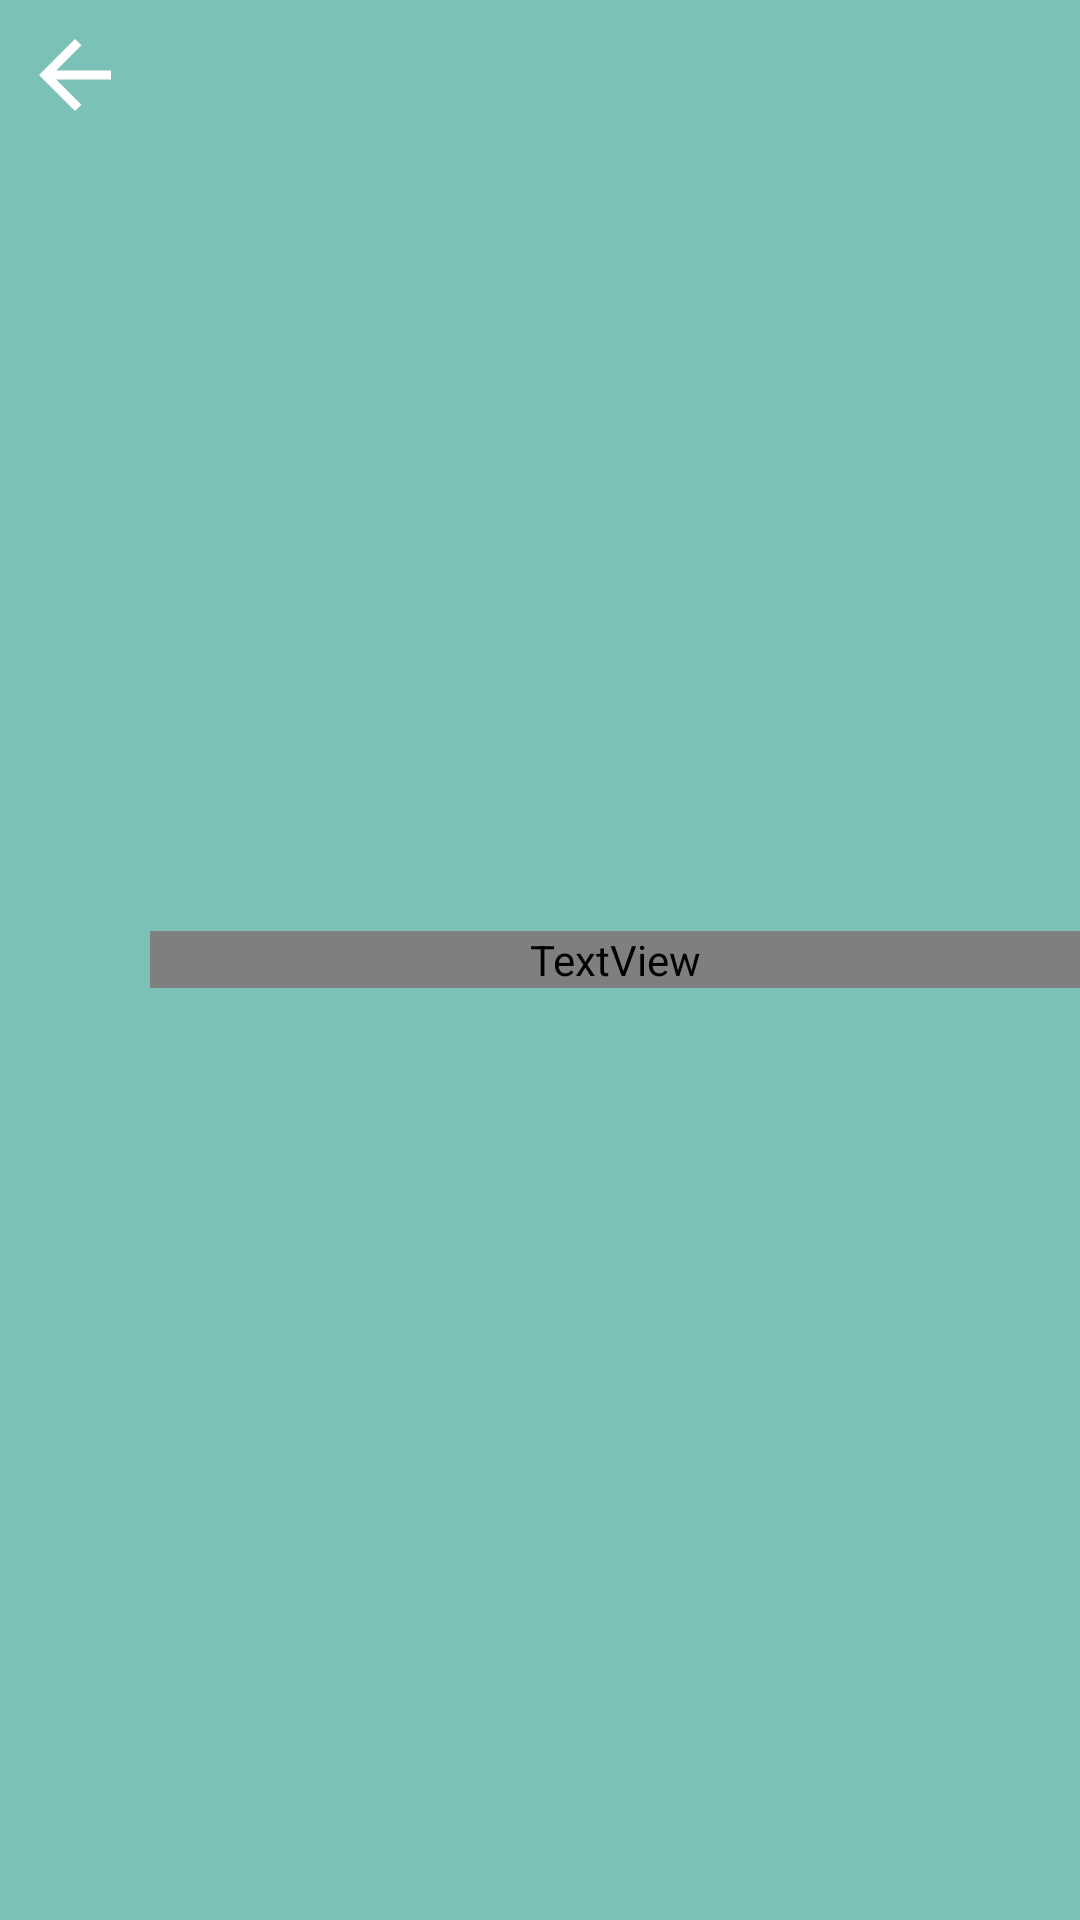

Named icons in this screenshot (1080w x 1920h) and their bounding boxes, (x1, y1, x2, y2):
arrow back: (39, 39, 111, 111)
